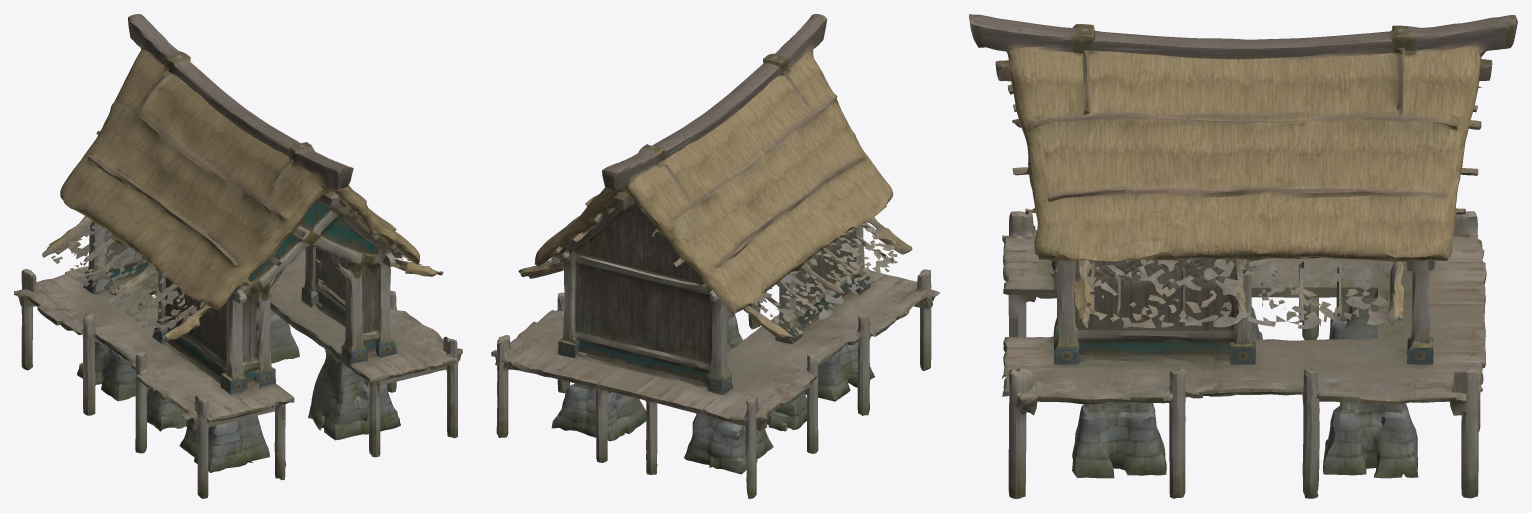
File: tidewake_boathouse.glb
The picture shows the model from 3 angles, left to right: view 1: azimuth 30°, elevation 25°; view 2: azimuth 150°, elevation 25°; view 3: azimuth 270°, elevation 25°; orthographic projection. The views are drawn at different scales.
Visible parts, largest first — view 1: Mesh_0; view 2: Mesh_0; view 3: Mesh_0.
Part boxes in pixels (left/top/right/bottom): Mesh_0: left=14, top=14, right=462, bottom=498; Mesh_0: left=491, top=14, right=939, bottom=498; Mesh_0: left=969, top=14, right=1517, bottom=498.
Size of the model in its own units: 1.46 by 1.53 by 1.9.
1 material, 1 textured.
